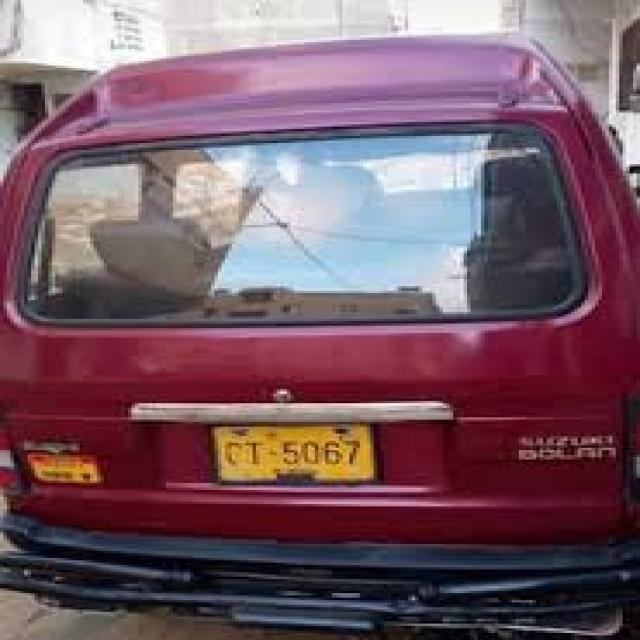Van: (14, 33, 636, 640)
